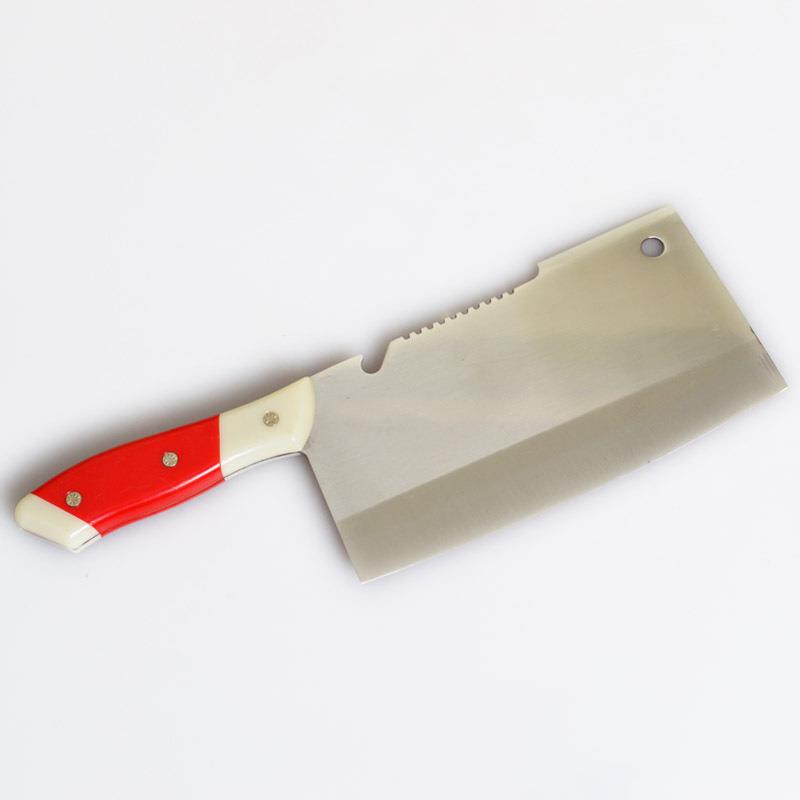knief: (8, 212, 779, 613)
